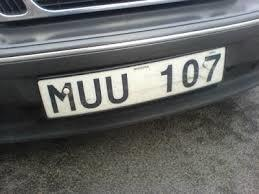license-plates: (38, 48, 226, 118)
